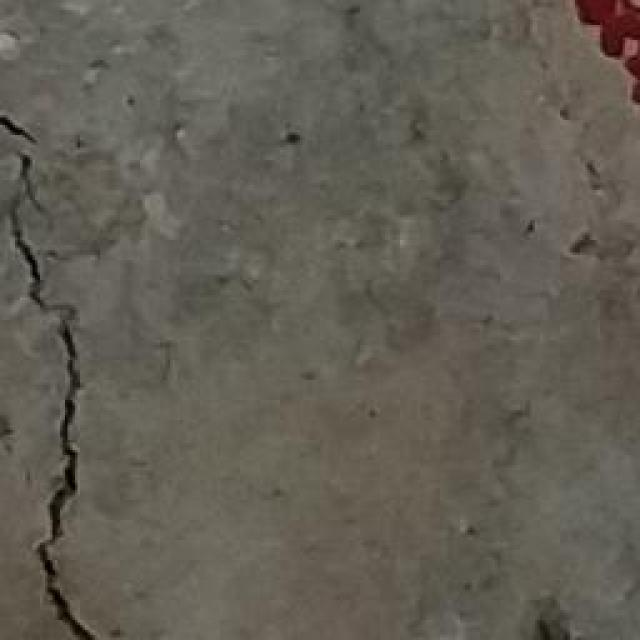Longitudinal: (0, 106, 109, 639)
